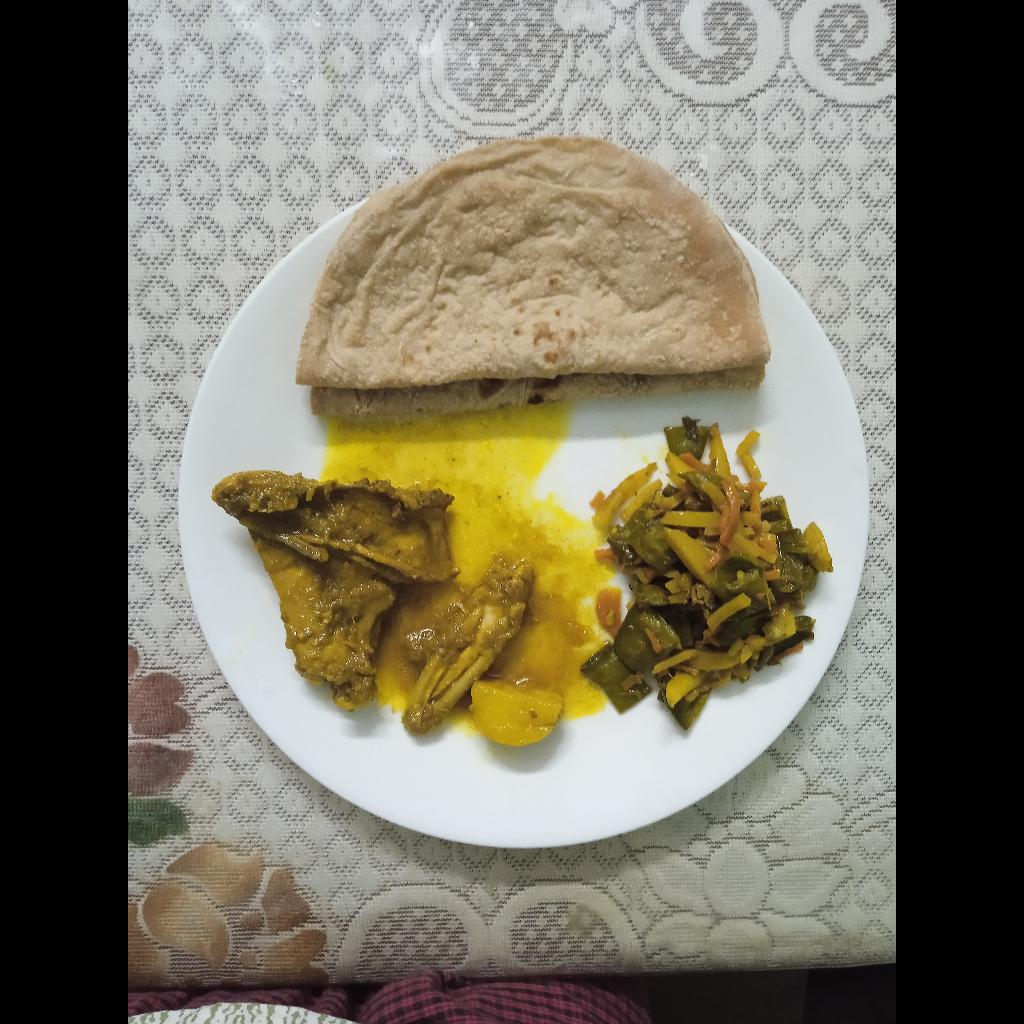chicken: (211, 470, 464, 712), (401, 556, 533, 736)
potato: (473, 681, 565, 748)
ruti: (294, 134, 771, 425)
vegetable: (580, 418, 834, 729)
